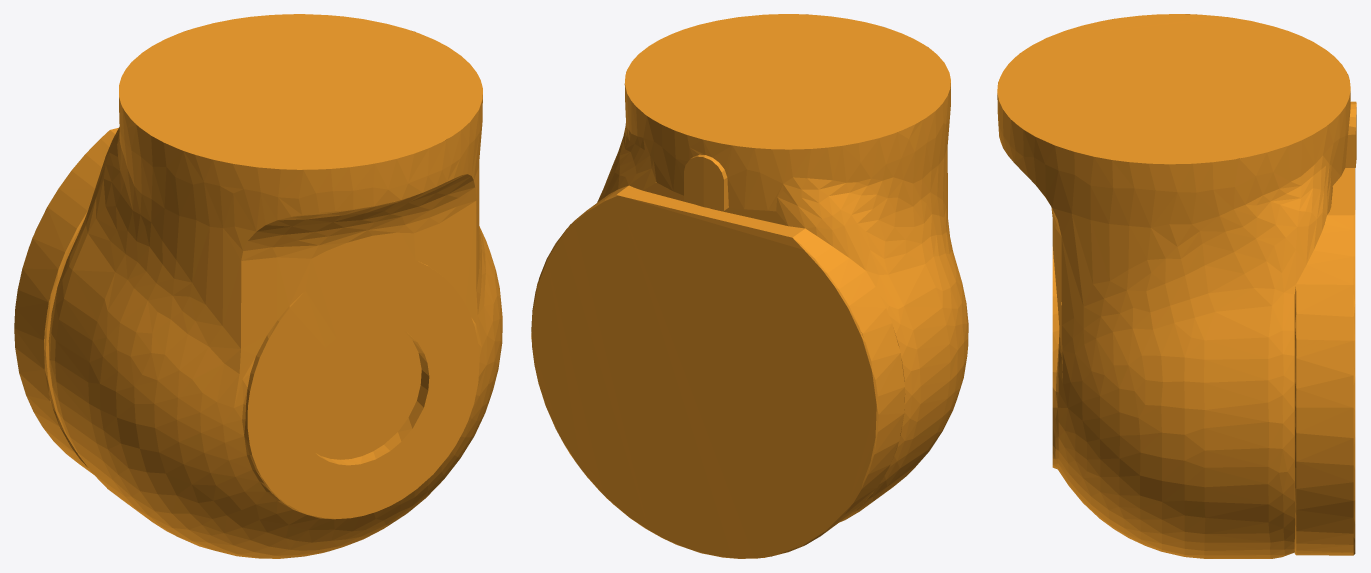
The model's file is Kuka361Link5.dae.
The picture shows the model from 3 angles, left to right: view 1: azimuth 30°, elevation 25°; view 2: azimuth 150°, elevation 25°; view 3: azimuth 270°, elevation 25°; orthographic projection. The views are drawn at different scales.
Visible parts, largest first — view 1: Kuka361Link5; view 2: Kuka361Link5; view 3: Kuka361Link5.
Part boxes in pixels (left/top/right/bottom): Kuka361Link5: left=14, top=14, right=502, bottom=558; Kuka361Link5: left=531, top=14, right=968, bottom=558; Kuka361Link5: left=997, top=14, right=1356, bottom=558.
Bounding box in the file's own units: 0.3372 × 0.2746 × 0.3797.
